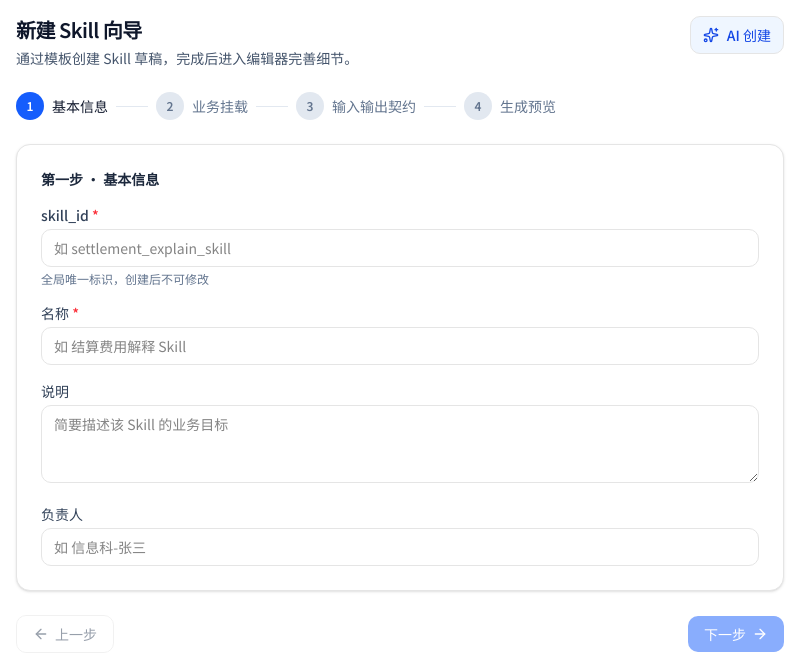
Scenario: NewSkillWizardPage › disables next button until skill_id and name are filled
Expected: the button "下一步" is disabled, [688,616,784,652]
Note: Fill required fields
Type "my_new_skill" into the field with placeholder "如 settlement_explain_skill" at (400, 248), box [41,229,759,267]
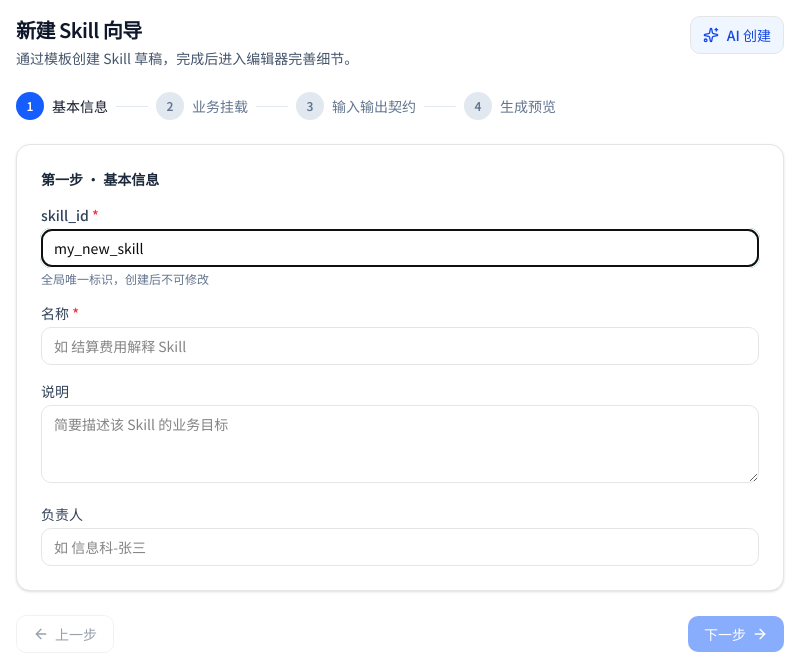
Type "My Skill" into the field with placeholder "如 结算费用解释 Skill" at (400, 346), box [41,327,759,365]
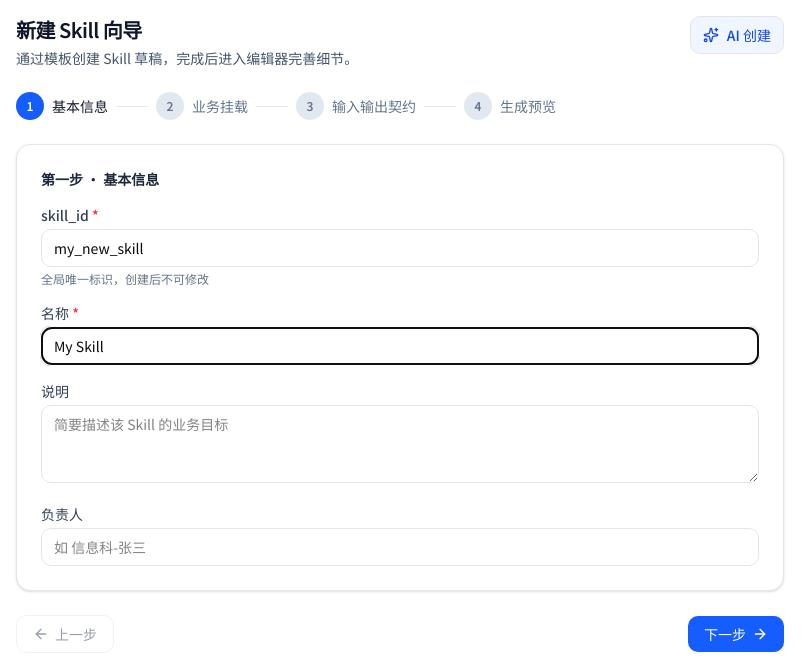
Expected: the button "下一步" is enabled, [688,616,784,652]
